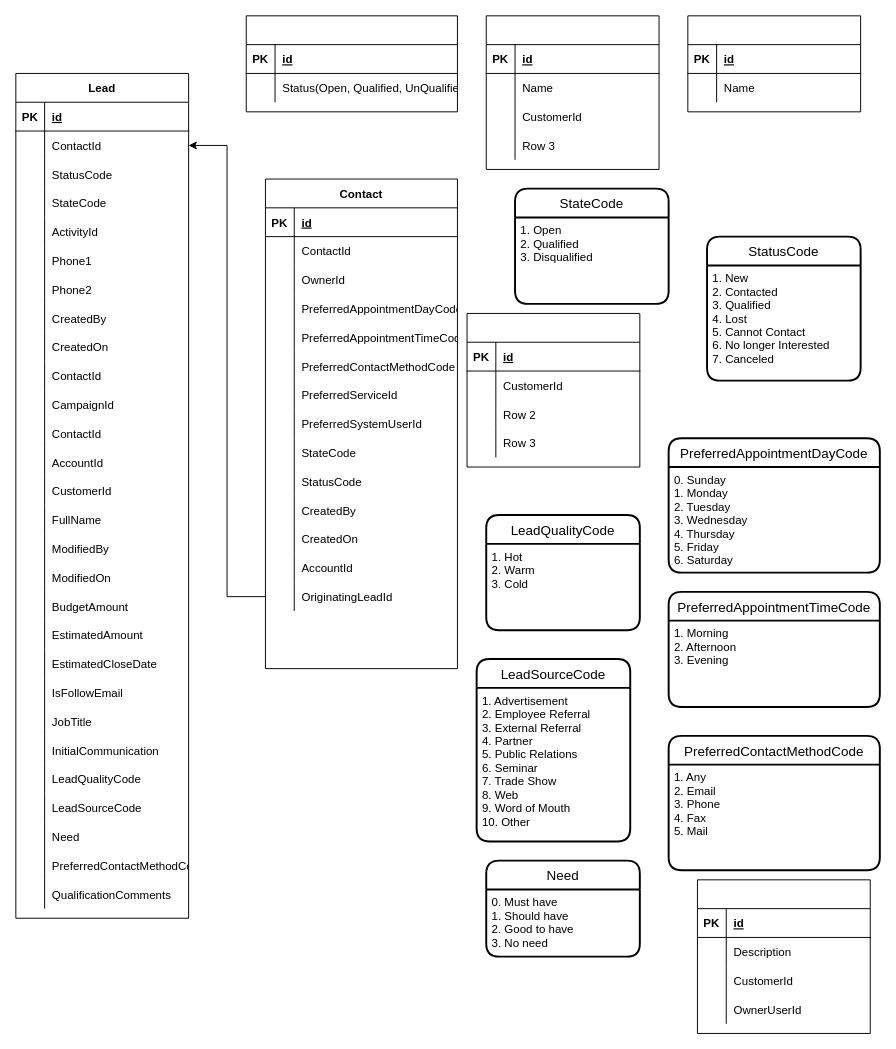
Some shapes in this 896 by 1049 pixel diagram are drawn without their labels. The box of each missing label's shape, as (x1, y1, x2, y2) in pixels:
Activity: (485, 15, 659, 169)
Attachment: (687, 15, 861, 112)
lead_customer_contacts: (466, 312, 640, 467)
LeadStatus: (245, 15, 457, 112)
Note: (696, 879, 870, 1033)
